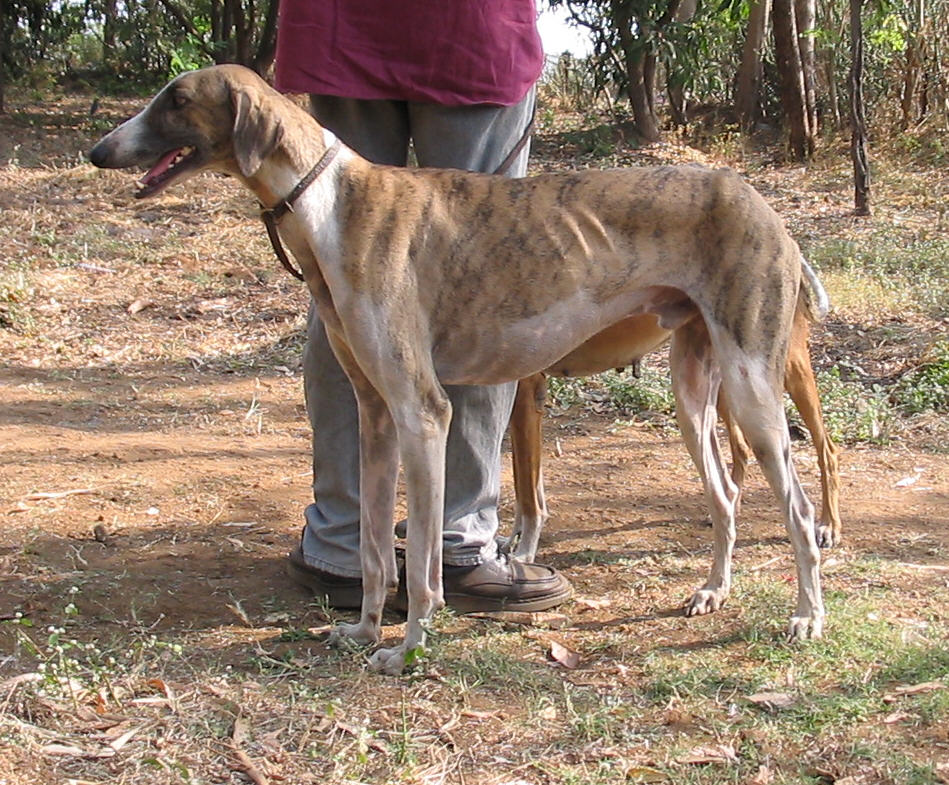dog: (97, 65, 839, 685)
